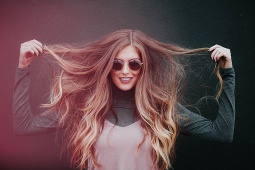female: (105, 42, 153, 99)
